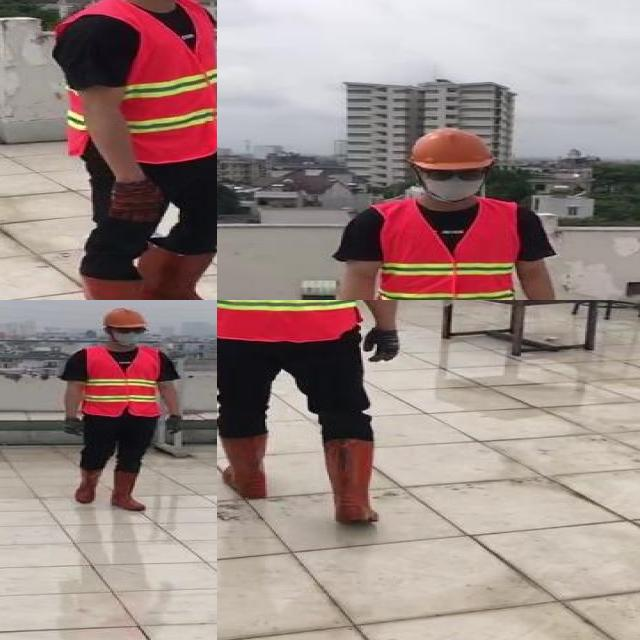boots: (320, 437, 390, 523), (135, 241, 217, 300), (217, 430, 273, 500), (77, 269, 187, 300), (112, 468, 142, 510), (76, 465, 102, 503)
face_mask: (421, 166, 487, 201), (109, 322, 150, 346)
glasses: (422, 166, 486, 183), (111, 325, 150, 336)
hand_glove: (109, 182, 169, 222), (363, 329, 400, 364), (62, 415, 91, 440), (160, 411, 181, 434)
head_helmet: (409, 128, 496, 170), (98, 306, 152, 330)
person: (49, 0, 217, 300), (217, 300, 414, 532), (336, 125, 565, 300), (51, 304, 191, 518)
vest: (57, 0, 217, 163), (374, 198, 520, 300), (217, 300, 362, 341), (84, 346, 164, 416)
